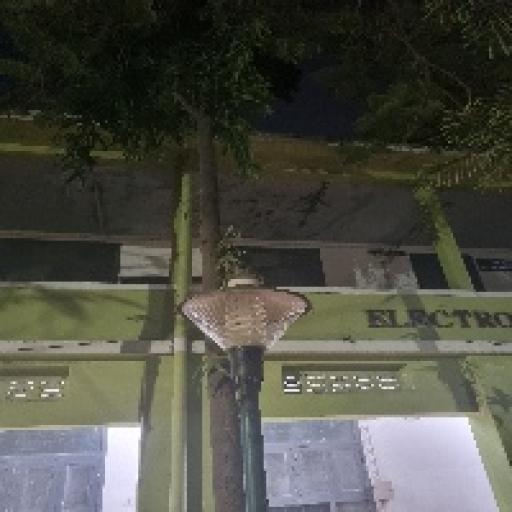Not Working: (167, 258, 320, 374)
